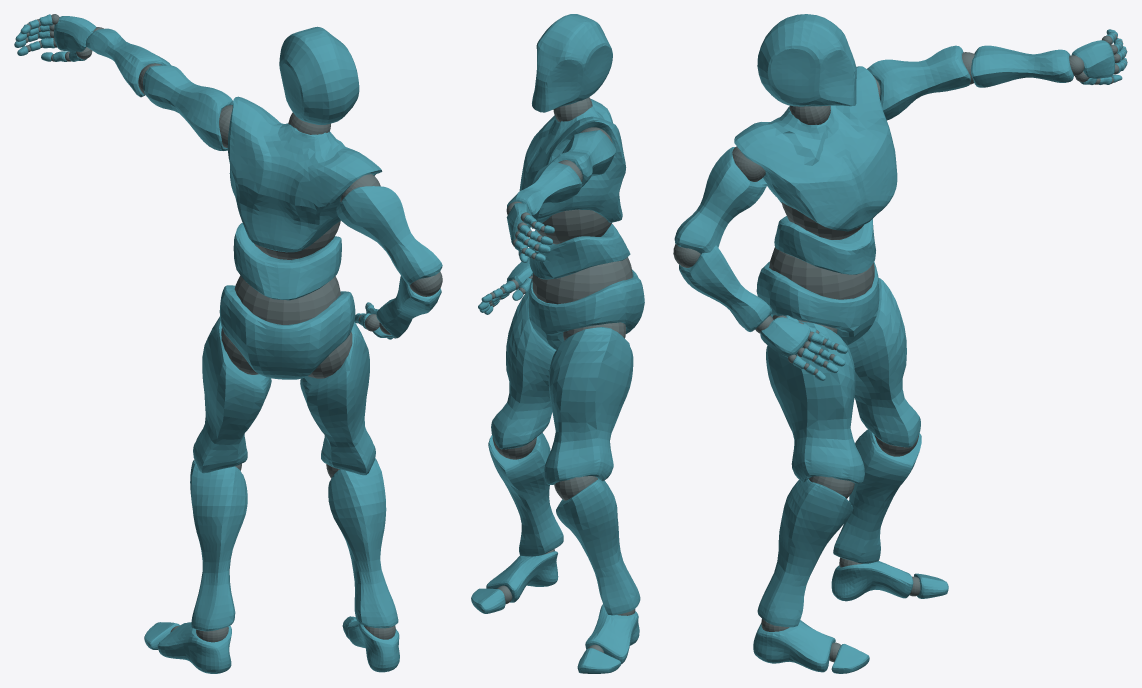
The model's file is add.glb.
3 views of the same model, side by side, from view 1: azimuth 30°, elevation 25°; view 2: azimuth 150°, elevation 25°; view 3: azimuth 270°, elevation 25° (orthographic). The views are drawn at different scales.
Visible parts, largest first — view 1: Alpha_Surface, Alpha_Joints; view 2: Alpha_Surface, Alpha_Joints; view 3: Alpha_Surface, Alpha_Joints.
Part boxes in pixels (<box>): Alpha_Surface: <box>14,14,442,673</box>; Alpha_Joints: <box>25,14,442,642</box>; Alpha_Surface: <box>471,14,644,673</box>; Alpha_Joints: <box>489,97,635,652</box>; Alpha_Surface: <box>674,14,1127,673</box>; Alpha_Joints: <box>673,34,1127,662</box>.
Bounding box in the file's own units: 0.6532 × 1.75 × 1.17.
